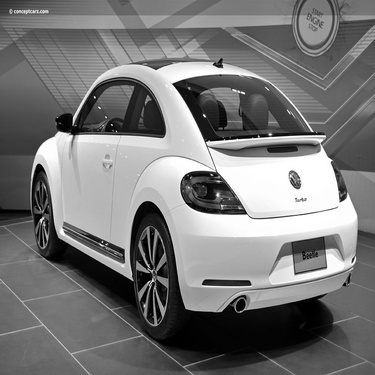car: (22, 47, 366, 348)
